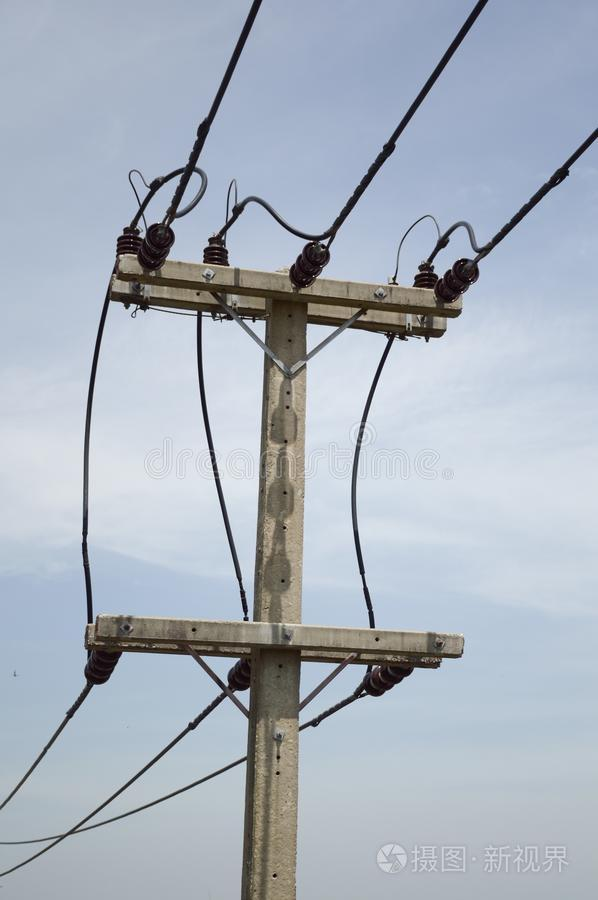insulator: (435, 254, 481, 304), (291, 237, 331, 288), (137, 223, 171, 269), (364, 664, 410, 697), (83, 651, 117, 686), (224, 657, 253, 692)
